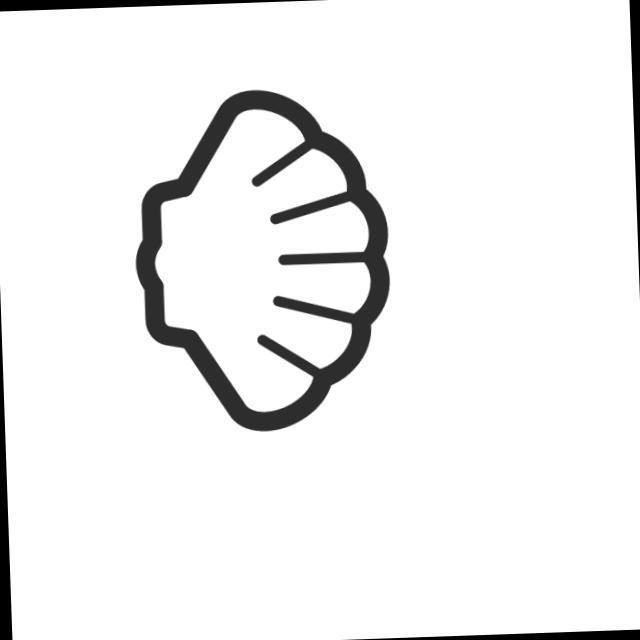shell: (125, 81, 401, 442)
